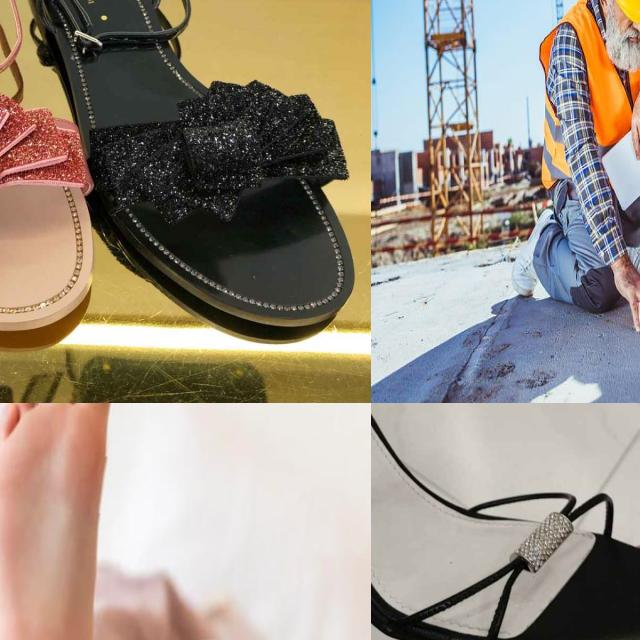Barefoots: (0, 403, 133, 640)
No_Ear-Protection: (600, 0, 608, 18)
Sandals: (3, 0, 371, 336), (371, 403, 640, 640), (0, 0, 105, 348)
face_nomask: (605, 4, 640, 73)
hand_noglove: (610, 253, 640, 331), (631, 89, 640, 159)
